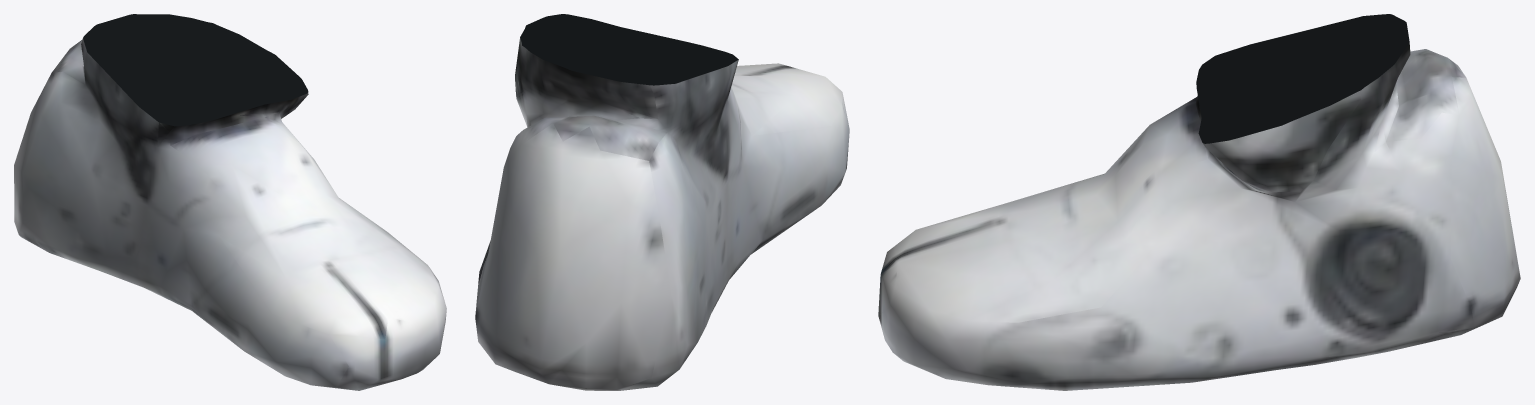
Rendered from left_foot.obj.
3 views of the same model, side by side, from view 1: azimuth 30°, elevation 25°; view 2: azimuth 150°, elevation 25°; view 3: azimuth 270°, elevation 25° (orthographic). The views are drawn at different scales.
Visible parts, largest first — view 1: left_foot; view 2: left_foot; view 3: left_foot.
Part boxes in pixels (<box>): left_foot: <box>14,14,446,390</box>; left_foot: <box>475,14,849,390</box>; left_foot: <box>878,14,1520,390</box>.
Size of the model in its own units: 0.1777 by 0.1545 by 0.3332.
Materials: 2 (1 with a texture image).
